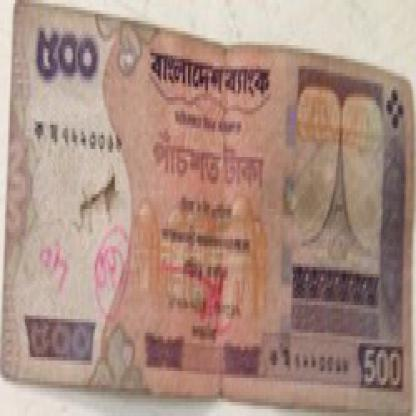500 taka: (26, 35, 106, 86), (354, 336, 411, 392)
currency: (12, 11, 414, 413)
